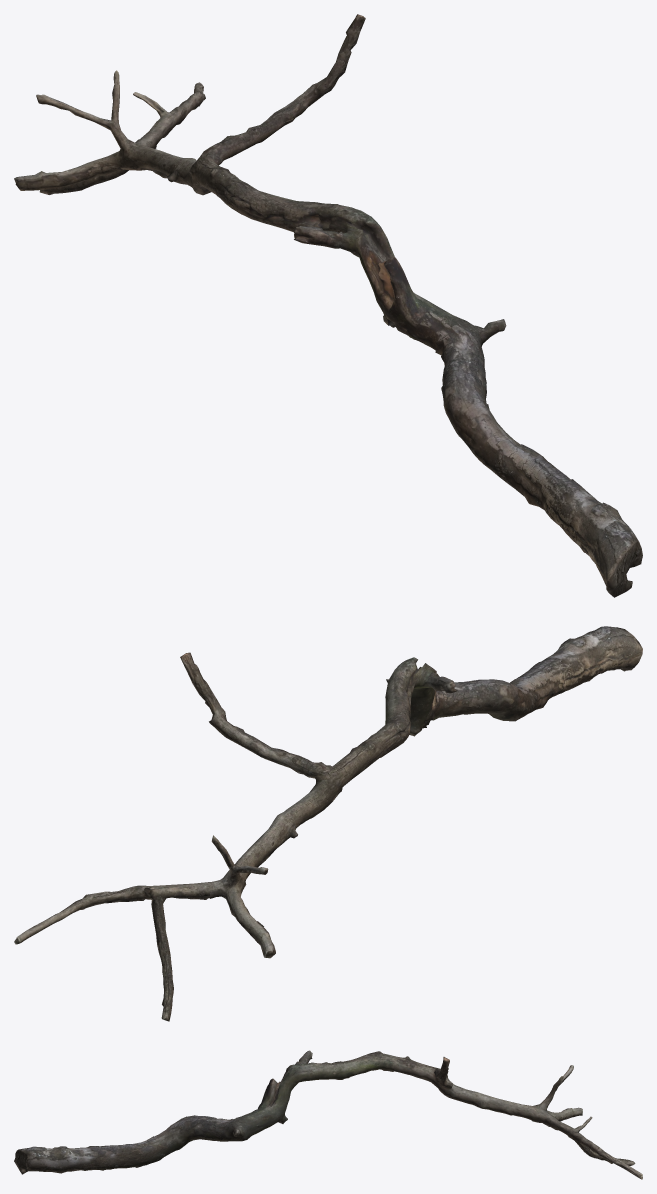
File: dry_branches.glb
3 views of the same model, one above another, from view 1: azimuth 30°, elevation 25°; view 2: azimuth 150°, elevation 25°; view 3: azimuth 270°, elevation 25° (orthographic). The views are drawn at different scales.
Parts seen in each view (by area): view 1: dry_branches_medium_01_a; view 2: dry_branches_medium_01_a; view 3: dry_branches_medium_01_a.
Boxes of the visible parts, x1=… form: dry_branches_medium_01_a: x1=14, y1=14, x2=642, y2=597; dry_branches_medium_01_a: x1=14, y1=626, x2=642, y2=1021; dry_branches_medium_01_a: x1=14, y1=1050, x2=642, y2=1179.
Bounding box in the file's own units: 0.3231 × 0.341 × 1.3.
Materials: 1 (1 with a texture image).
